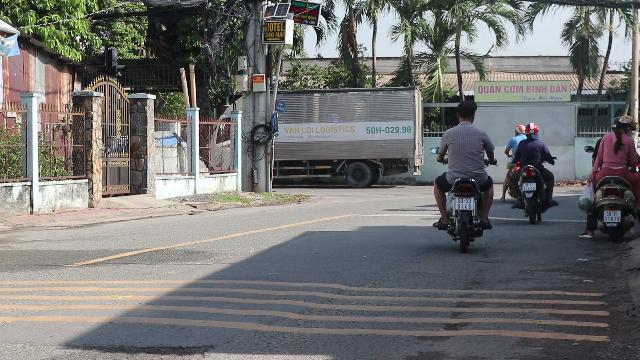helmet: (619, 115, 637, 133), (610, 115, 622, 133), (526, 123, 540, 137)
licenseplate: (454, 197, 474, 210), (604, 210, 620, 222), (522, 182, 536, 190)
motorcyclist: (429, 98, 496, 250), (576, 114, 640, 242), (500, 122, 556, 222)
nohelmet: (454, 100, 478, 124)
